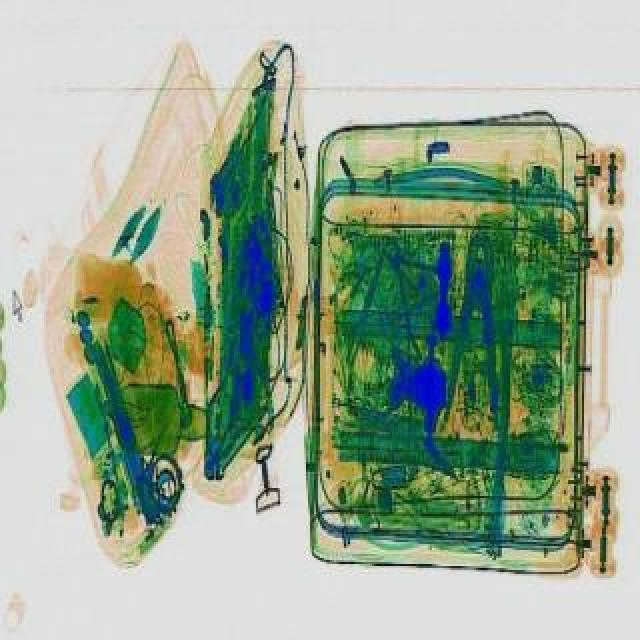wrench: (360, 224, 476, 356), (442, 234, 506, 420)
